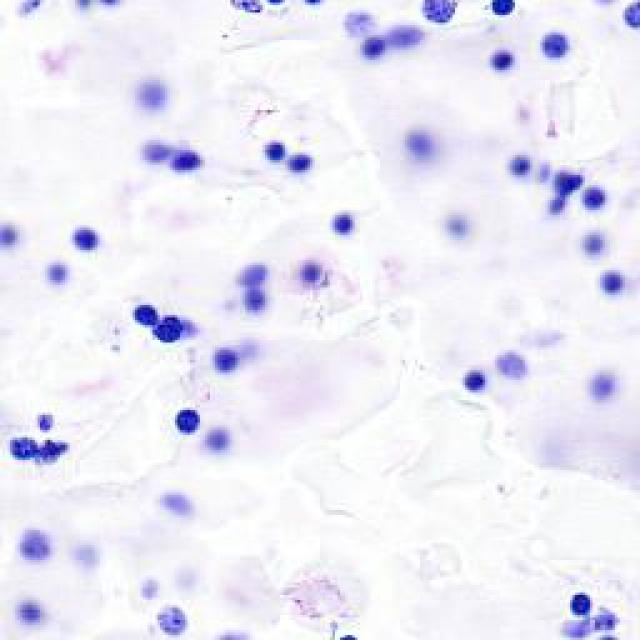cell: (393, 132, 459, 170), (125, 78, 191, 114), (3, 433, 74, 464), (143, 595, 198, 632), (588, 262, 636, 304), (62, 220, 112, 256), (147, 487, 206, 514), (18, 523, 57, 563), (453, 367, 501, 399), (122, 299, 162, 337), (27, 401, 69, 437), (232, 258, 289, 283), (301, 257, 337, 296), (36, 255, 78, 288), (205, 416, 241, 454), (162, 404, 201, 439), (2, 212, 28, 264), (157, 312, 190, 352), (535, 29, 577, 60), (228, 292, 280, 317), (506, 145, 538, 185), (434, 211, 478, 240), (550, 165, 576, 214), (210, 334, 238, 378), (176, 144, 209, 181), (322, 210, 367, 237), (352, 40, 394, 67), (566, 583, 602, 614), (584, 371, 617, 404), (259, 132, 288, 168), (136, 141, 170, 171), (13, 596, 48, 622), (584, 183, 614, 213), (580, 229, 609, 259), (414, 4, 459, 20), (476, 3, 532, 15), (622, 3, 640, 38), (290, 152, 315, 176), (328, 626, 370, 640), (488, 50, 514, 71)
